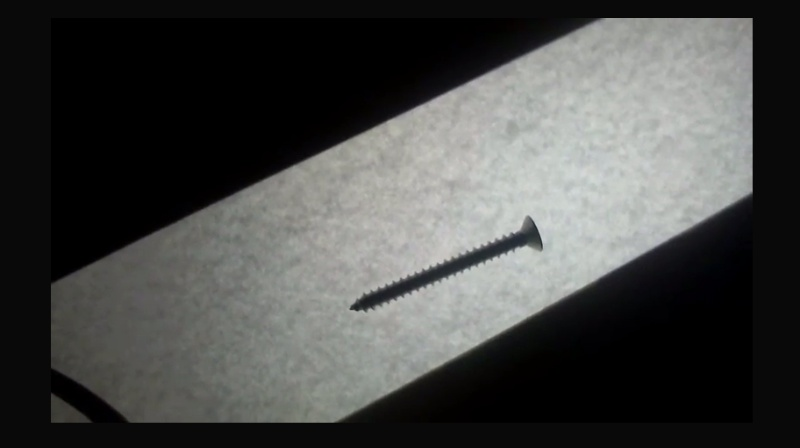S002: (345, 211, 548, 316)
